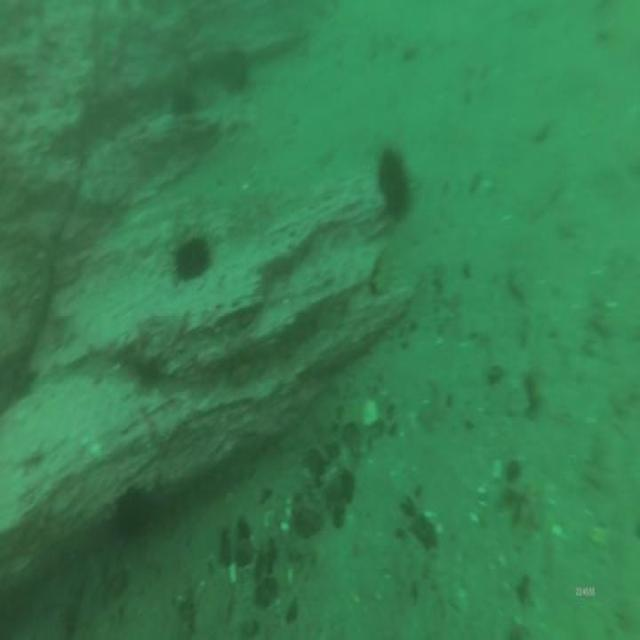echinus: (374, 142, 416, 228), (111, 482, 156, 542), (171, 231, 213, 286), (216, 41, 252, 93), (169, 81, 196, 123)
holothurian: (370, 240, 396, 302)
